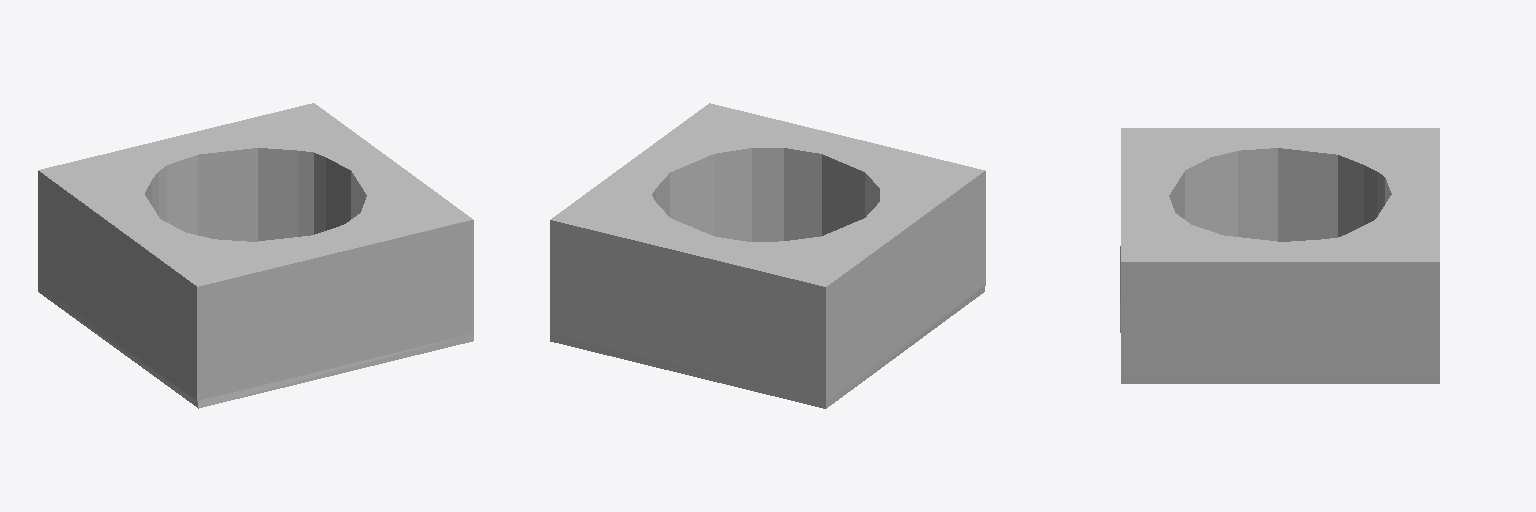
The picture shows the model from 3 angles: view 1: azimuth 30°, elevation 25°; view 2: azimuth 150°, elevation 25°; view 3: azimuth 270°, elevation 25°; orthographic projection.
Parts seen in each view (by area): view 1: group[number redacted], group[number redacted], group[number redacted], group[number redacted], group[number redacted], group[number redacted]; view 2: group[number redacted], group[number redacted], group[number redacted], group[number redacted], group[number redacted], group[number redacted]; view 3: group[number redacted], group[number redacted], group[number redacted], group[number redacted], group[number redacted], group[number redacted].
Boxes of the visible parts, box(x1,y1,x2,y2) form: group[number redacted]: box(182, 208, 473, 399); group[number redacted]: box(38, 164, 224, 400); group[number redacted]: box(128, 141, 382, 248); group[number redacted]: box(287, 103, 473, 339); group[number redacted]: box(38, 105, 329, 295); group[number redacted]: box(38, 285, 473, 408); group[number redacted]: box(551, 208, 841, 400); group[number redacted]: box(799, 164, 980, 400); group[number redacted]: box(640, 141, 895, 248); group[number redacted]: box(550, 103, 736, 339); group[number redacted]: box(736, 110, 985, 295); group[number redacted]: box(550, 285, 985, 408); group[number redacted]: box(1121, 232, 1439, 376); group[number redacted]: box(1153, 141, 1407, 248); group[number redacted]: box(1121, 128, 1191, 376); group[number redacted]: box(1121, 128, 1439, 157); group[number redacted]: box(1368, 141, 1439, 261); group[number redacted]: box(1120, 246, 1439, 383).
Bounding box in the file's own units: 0.81 × 0.3418 × 0.8123.